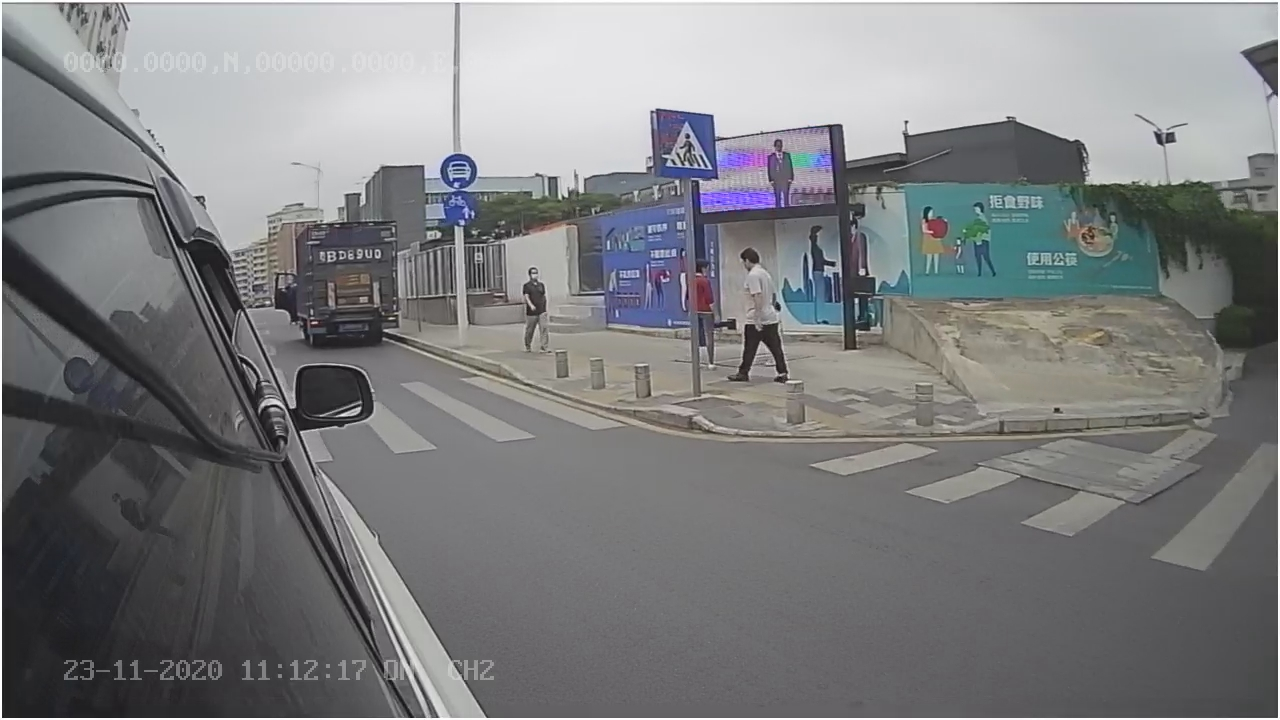person: (720, 245, 800, 383)
